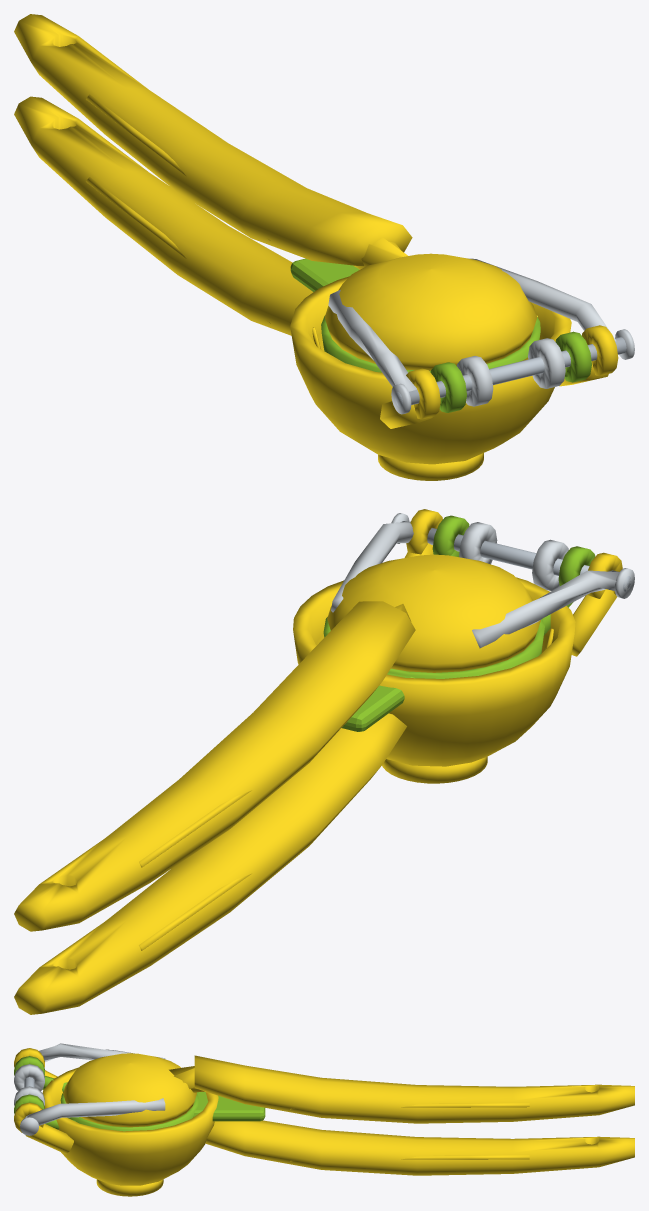
Rendered from Squeezer.fbx.
The picture shows the model from 3 angles, top to bottom: view 1: azimuth 30°, elevation 25°; view 2: azimuth 150°, elevation 25°; view 3: azimuth 270°, elevation 25°; orthographic projection. The views are drawn at different scales.
Visible parts, largest first — view 1: Squeezer::UpperPivot::UpperHandle, Squeezer::LowerBody::LowerHandle, Squeezer::UpperPivot::YellowTopHousing, Squeezer::LowerBody::LemonBowl, Squeezer::UpperPivot::PolishedSideLink-1, Squeezer::UpperPivot::PolishedSideLink1, Squeezer::LowerBody::HingePin, Squeezer::LowerBody::DripGuideRing, Squeezer::MiddlePivot::LimeBowl, Squeezer::MiddlePivot::MiddleThumbTab, Squeezer::UpperPivot::UpperHingeEye1, Squeezer::UpperPivot::UpperHingeEye-1 (+8 smaller); view 2: Squeezer::UpperPivot::UpperHandle, Squeezer::LowerBody::LowerHandle, Squeezer::LowerBody::LemonBowl, Squeezer::UpperPivot::YellowTopHousing, Squeezer::UpperPivot::PolishedSideLink-1, Squeezer::UpperPivot::PolishedSideLink1, Squeezer::LowerBody::DripGuideRing, Squeezer::MiddlePivot::LimeBowl, Squeezer::MiddlePivot::MiddleThumbTab, Squeezer::LowerBody::HingePin, Squeezer::LowerBody::LowerHingeBridge-1, Squeezer::UpperPivot::UpperHingeEye-1 (+6 smaller); view 3: Squeezer::UpperPivot::UpperHandle, Squeezer::LowerBody::LowerHandle, Squeezer::LowerBody::LemonBowl, Squeezer::UpperPivot::YellowTopHousing, Squeezer::UpperPivot::PolishedSideLink1, Squeezer::MiddlePivot::MiddleThumbTab, Squeezer::UpperPivot::PolishedSideLink-1, Squeezer::MiddlePivot::LimeBowl, Squeezer::LowerBody::LowerHingeBridge1, Squeezer::LowerBody::DripGuideRing, Squeezer::UpperPivot::HandleSideRib_1, Squeezer::LowerBody::HandleSideRib_1 (+8 smaller).
Part boxes in pixels (box(x1,y1,x2,y2)): Squeezer::UpperPivot::UpperHandle: box(14, 14, 412, 265); Squeezer::LowerBody::LowerHandle: box(14, 96, 313, 335); Squeezer::UpperPivot::YellowTopHousing: box(324, 253, 536, 370); Squeezer::LowerBody::LemonBowl: box(290, 276, 571, 464); Squeezer::UpperPivot::PolishedSideLink-1: box(328, 290, 416, 391); Squeezer::UpperPivot::PolishedSideLink1: box(469, 258, 616, 341); Squeezer::LowerBody::HingePin: box(394, 337, 626, 407); Squeezer::LowerBody::DripGuideRing: box(378, 453, 483, 480); Squeezer::MiddlePivot::LimeBowl: box(321, 315, 540, 372); Squeezer::MiddlePivot::MiddleThumbTab: box(290, 258, 359, 291); Squeezer::UpperPivot::UpperHingeEye1: box(528, 338, 565, 388); Squeezer::UpperPivot::UpperHingeEye-1: box(457, 356, 493, 406); Squeezer::UpperPivot::UpperHandle: box(14, 601, 415, 931); Squeezer::LowerBody::LowerHandle: box(14, 713, 406, 1014); Squeezer::LowerBody::LemonBowl: box(293, 577, 575, 766); Squeezer::UpperPivot::YellowTopHousing: box(327, 554, 540, 672); Squeezer::UpperPivot::PolishedSideLink-1: box(472, 570, 619, 648); Squeezer::UpperPivot::PolishedSideLink1: box(331, 521, 413, 612); Squeezer::LowerBody::DripGuideRing: box(382, 756, 487, 783); Squeezer::MiddlePivot::LimeBowl: box(323, 617, 544, 678); Squeezer::MiddlePivot::MiddleThumbTab: box(342, 673, 414, 731); Squeezer::LowerBody::HingePin: box(401, 521, 631, 591); Squeezer::LowerBody::LowerHingeBridge-1: box(571, 589, 616, 656); Squeezer::UpperPivot::UpperHingeEye-1: box(532, 539, 568, 590); Squeezer::UpperPivot::UpperHandle: box(194, 1055, 634, 1123); Squeezer::LowerBody::LowerHandle: box(205, 1120, 634, 1175); Squeezer::LowerBody::LemonBowl: box(42, 1067, 218, 1185); Squeezer::UpperPivot::YellowTopHousing: box(63, 1053, 196, 1127); Squeezer::UpperPivot::PolishedSideLink1: box(27, 1098, 165, 1125); Squeezer::MiddlePivot::MiddleThumbTab: box(193, 1092, 265, 1121); Squeezer::UpperPivot::PolishedSideLink-1: box(39, 1043, 165, 1062); Squeezer::MiddlePivot::LimeBowl: box(60, 1093, 199, 1131); Squeezer::LowerBody::LowerHingeBridge1: box(25, 1124, 73, 1154); Squeezer::LowerBody::DripGuideRing: box(96, 1179, 163, 1196); Squeezer::UpperPivot::HandleSideRib_1: box(290, 1102, 529, 1109); Squeezer::LowerBody::HandleSideRib_1: box(290, 1154, 529, 1161).
Bounding box in the file's own units: 7.4 × 5.7 × 25.95.
